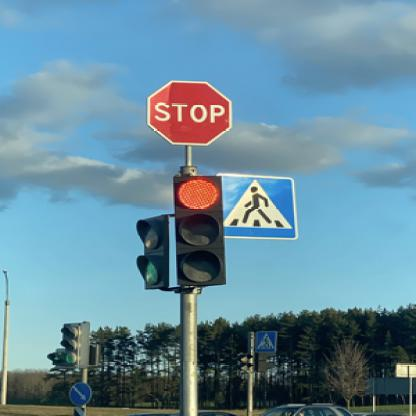crosswalk: (215, 172, 295, 239), (252, 328, 277, 352)
stop: (146, 79, 232, 145)
trafficlight: (170, 173, 224, 287), (132, 213, 168, 288), (47, 319, 79, 365)
